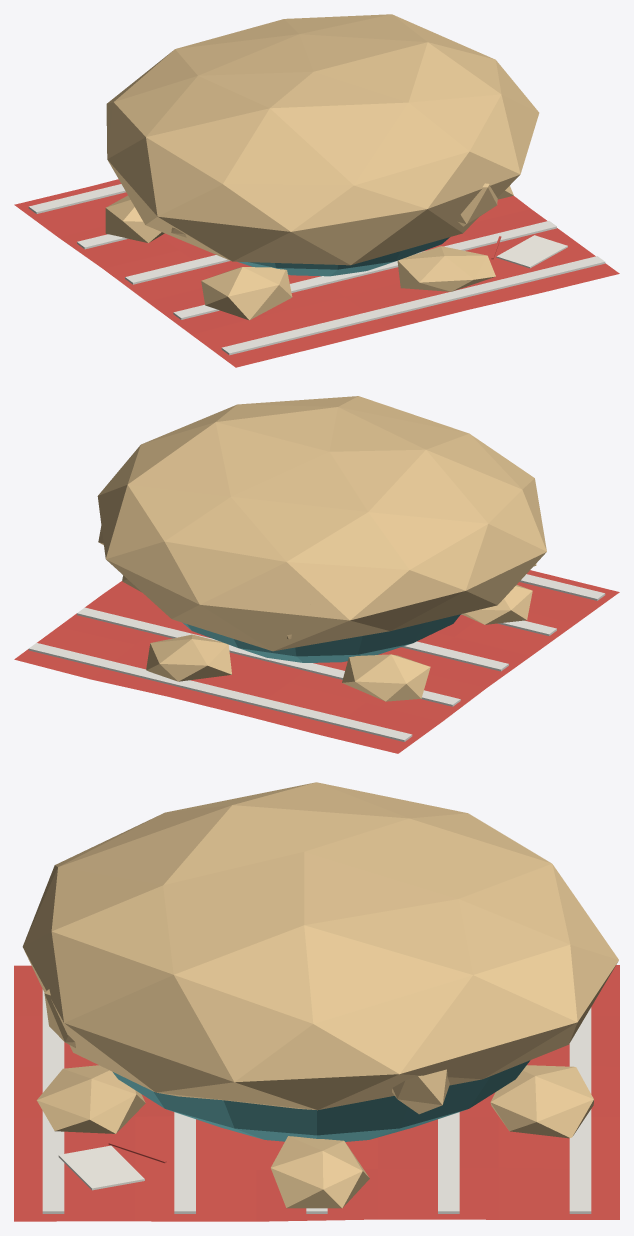
File: sm_cargo_content_sourdough.glb
3 views of the same model, one above another, from view 1: azimuth 30°, elevation 25°; view 2: azimuth 150°, elevation 25°; view 3: azimuth 270°, elevation 25° (orthographic). The views are drawn at different scales.
Visible parts, largest first — view 1: Ruined, Filler, Intact, Damage; view 2: Ruined, Filler, Intact; view 3: Ruined, Filler, Intact, Damage.
Boxes of the visible parts, x1=… form: Ruined: x1=105, y1=14, x2=539, y2=320; Filler: x1=14, y1=179, x2=619, y2=367; Intact: x1=237, y1=235, x2=567, y2=276; Damage: x1=171, y1=183, x2=497, y2=237; Ruined: x1=97, y1=396, x2=546, y2=701; Filler: x1=14, y1=570, x2=619, y2=753; Intact: x1=182, y1=614, x2=460, y2=662; Ruined: x1=22, y1=782, x2=618, y2=1208; Filler: x1=14, y1=965, x2=619, y2=1221; Intact: x1=58, y1=1060, x2=530, y2=1190; Damage: x1=44, y1=989, x2=449, y2=1114.
Size of the model in its own units: 0.8506 by 0.3768 by 0.8446.
